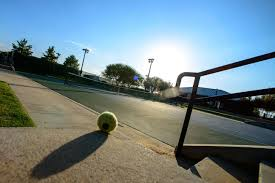tennis_ball: (96, 110, 118, 133)
